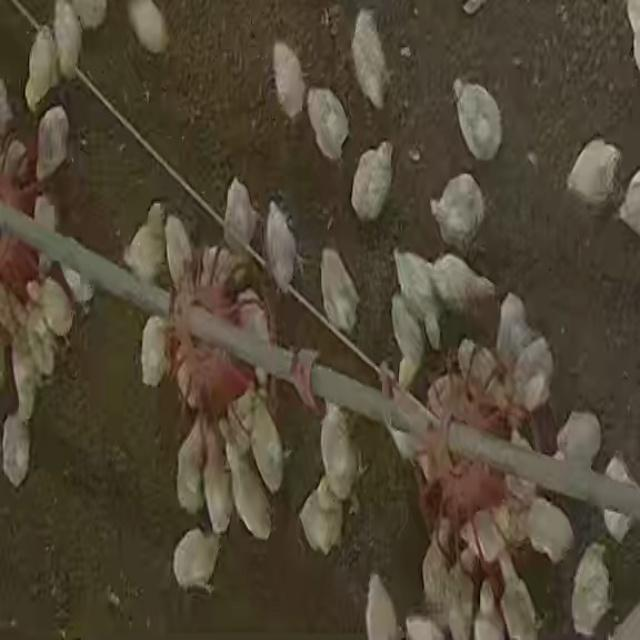chicken: (429, 250, 496, 324), (430, 173, 488, 255), (451, 74, 505, 162), (350, 7, 394, 113), (248, 394, 294, 495), (228, 429, 271, 537), (564, 138, 622, 210), (348, 141, 396, 224), (306, 83, 353, 165), (318, 405, 358, 500), (318, 248, 361, 336), (510, 334, 556, 412), (264, 201, 302, 295), (199, 422, 231, 533), (521, 496, 572, 565), (171, 526, 221, 595), (122, 202, 166, 279), (297, 483, 341, 555), (271, 38, 308, 122), (25, 26, 59, 110), (22, 304, 56, 388), (223, 178, 259, 255), (35, 106, 70, 183), (10, 340, 40, 426), (163, 209, 195, 289), (42, 277, 78, 346), (1, 412, 32, 490), (52, 2, 82, 80), (139, 314, 170, 387), (127, 1, 169, 54)
